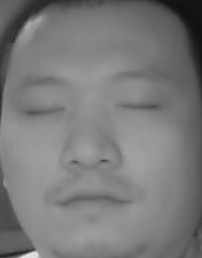blink: (116, 95, 158, 118), (28, 101, 64, 119)
mouth: (56, 184, 129, 219)
